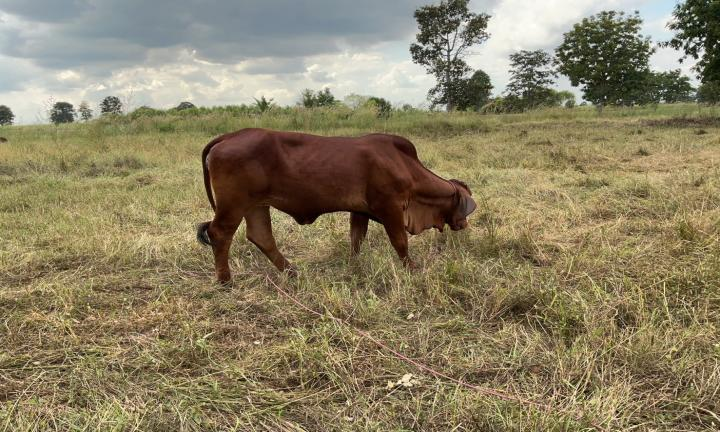Brahman: (197, 128, 475, 281)
